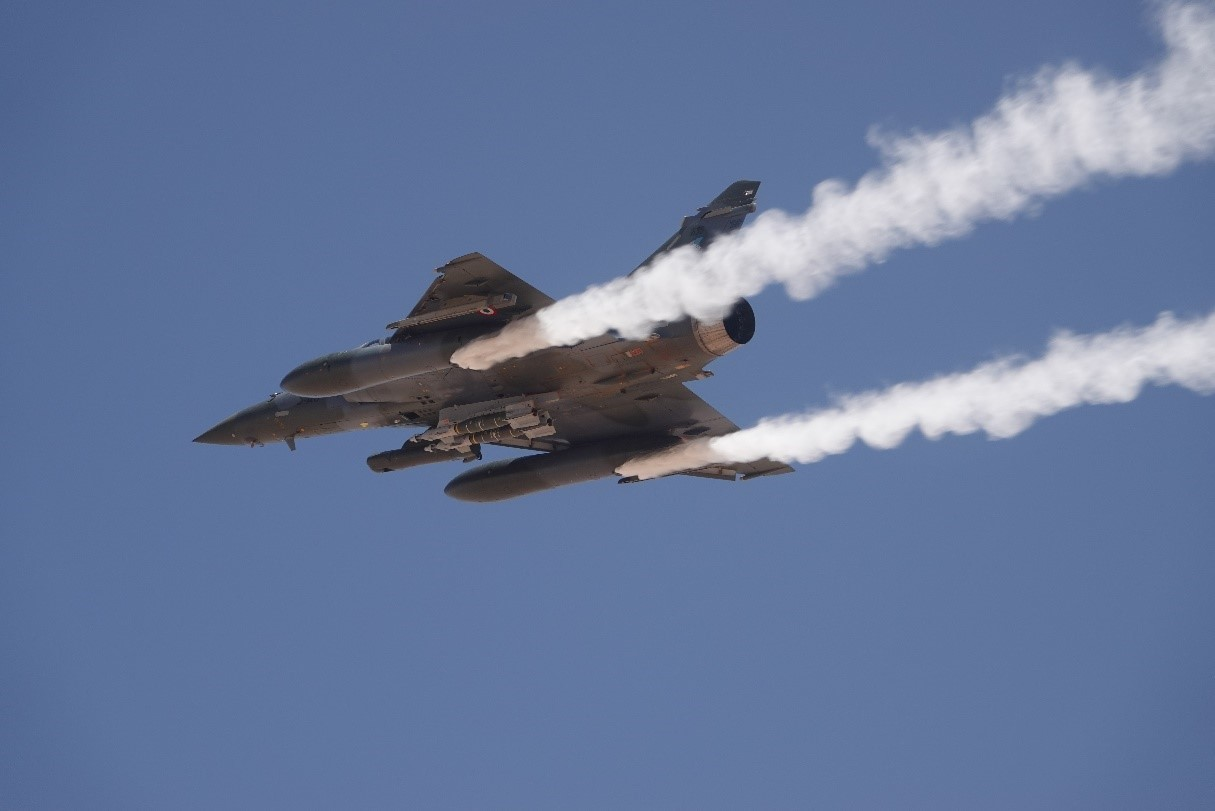Mirage2000: (191, 179, 795, 503)
